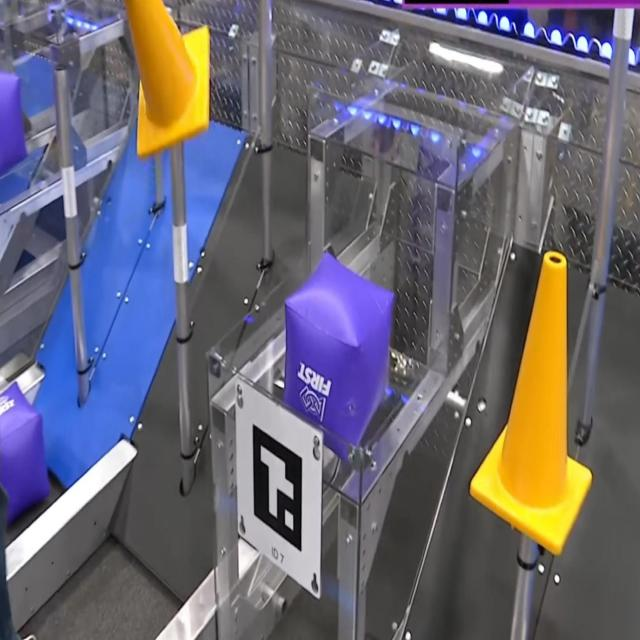frc_cone: (469, 242, 595, 555), (118, 0, 209, 159)
frc_cube: (283, 249, 392, 464), (0, 382, 53, 533), (0, 68, 29, 185)
